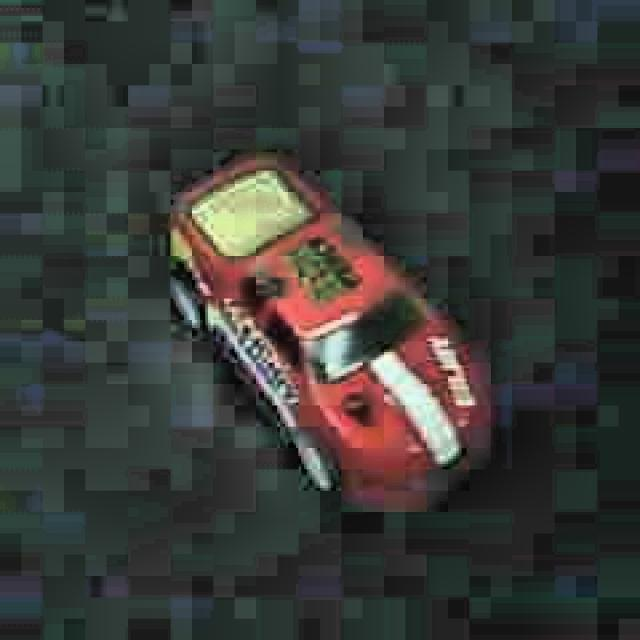car: (161, 146, 492, 512)
